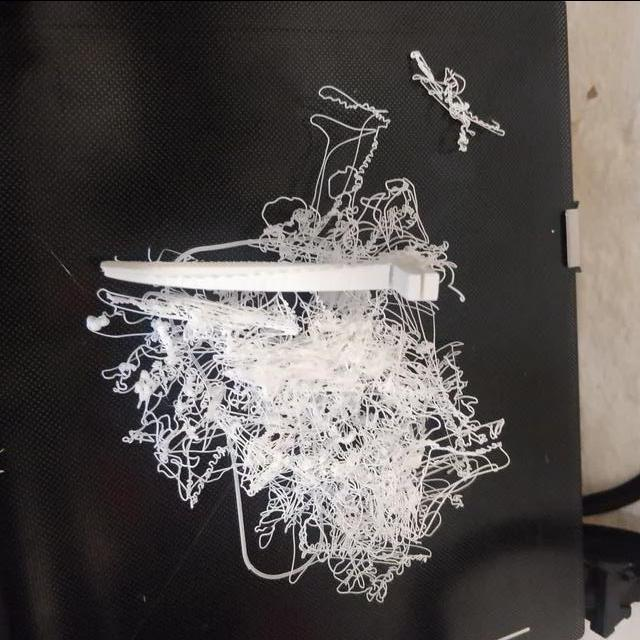Spaghetti: (261, 336, 444, 486), (162, 340, 251, 460), (314, 482, 426, 576), (294, 176, 404, 252), (434, 372, 490, 484), (416, 62, 488, 142), (253, 460, 314, 549), (110, 340, 166, 396)
